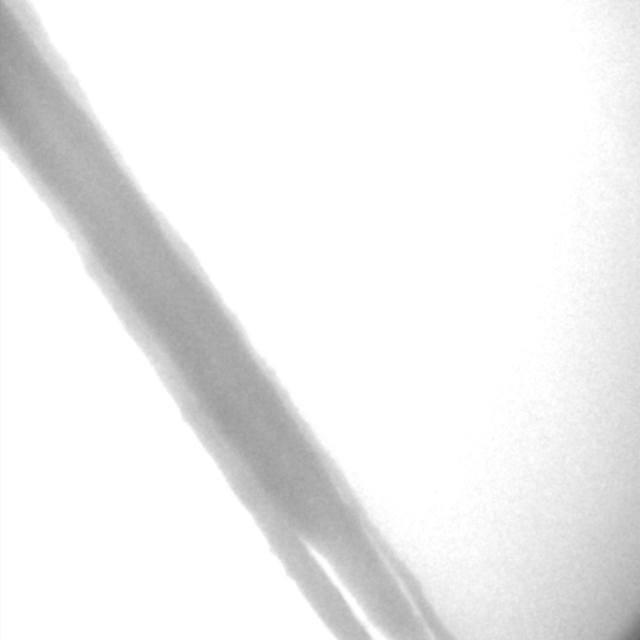unfused: (301, 526, 434, 637)
